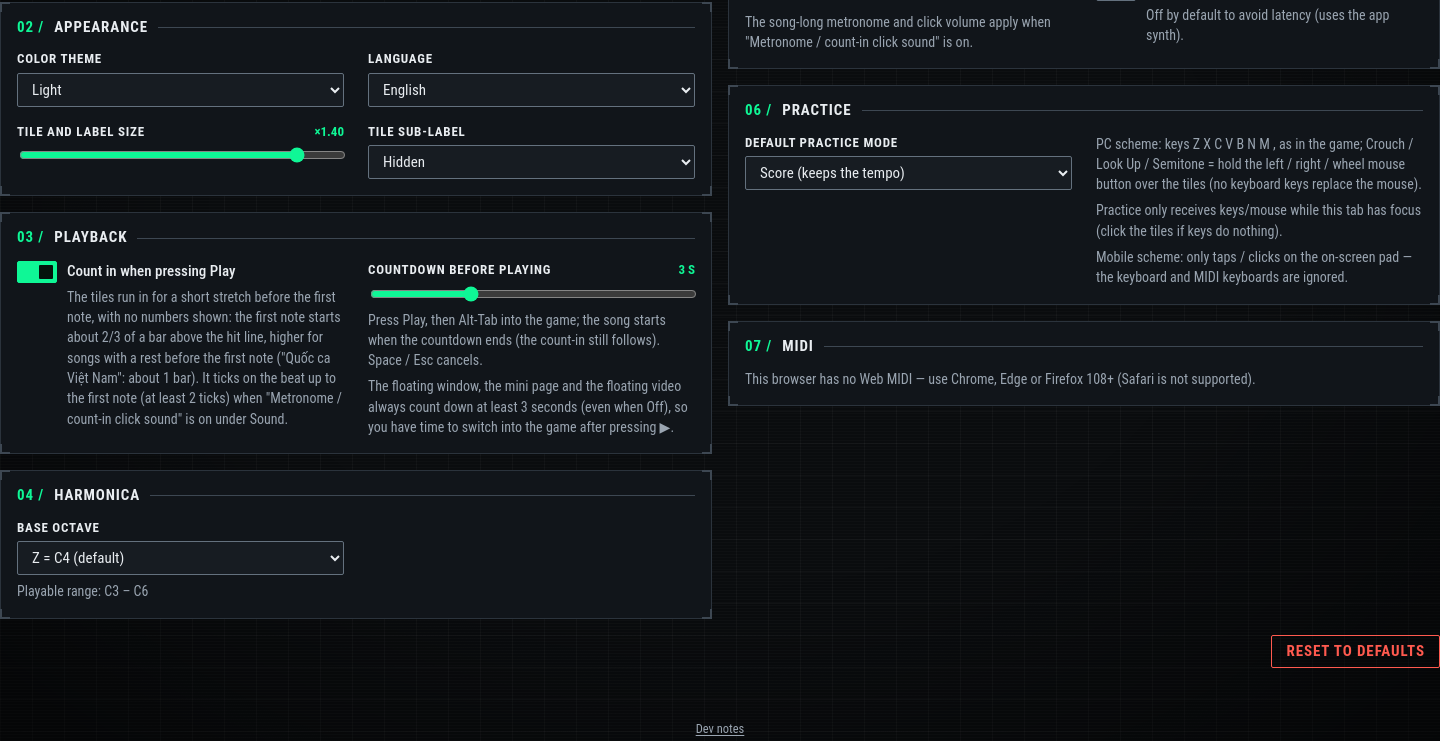
SettingsView › reset asks for confirmation, cancel keeps settings, confirm restores defaults
The image size is (1440, 741).
(page scrolled)
Click the button "Reset to defaults" at (1356, 651), box [1271,635,1439,668]
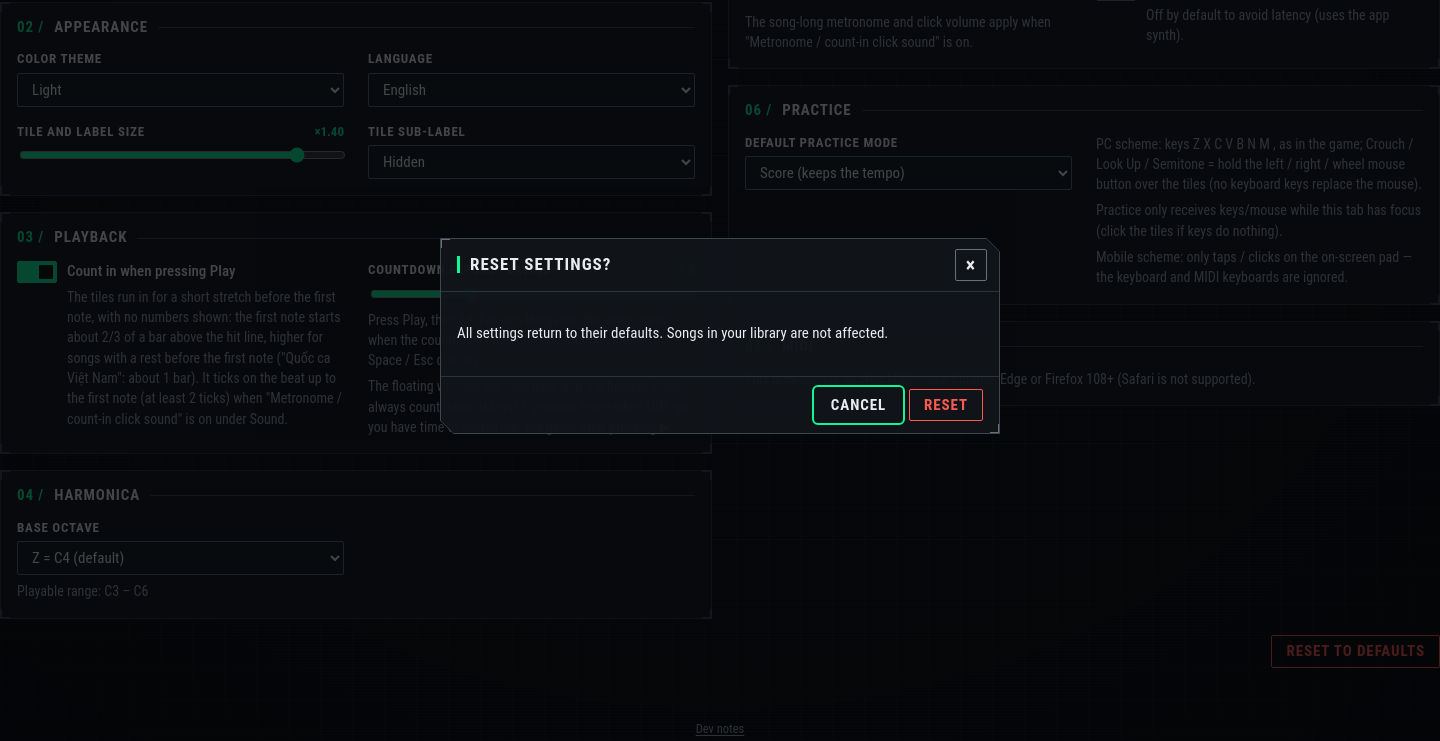
Click the button "Cancel" at (858, 405), box [816,388,901,421]
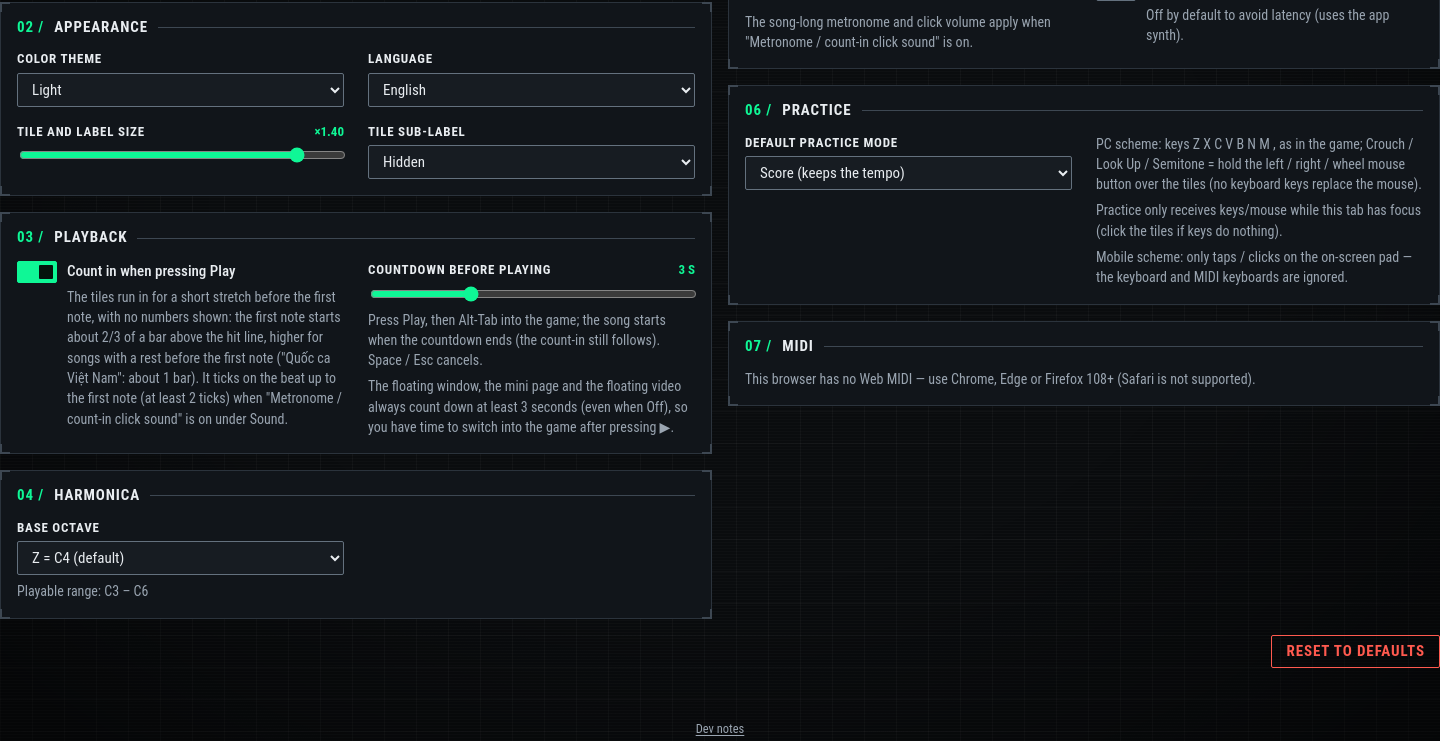
Expected: the dialog is gone
Esc cũng đóng
Click the button "Reset to defaults" at (1356, 651), box [1271,635,1439,668]
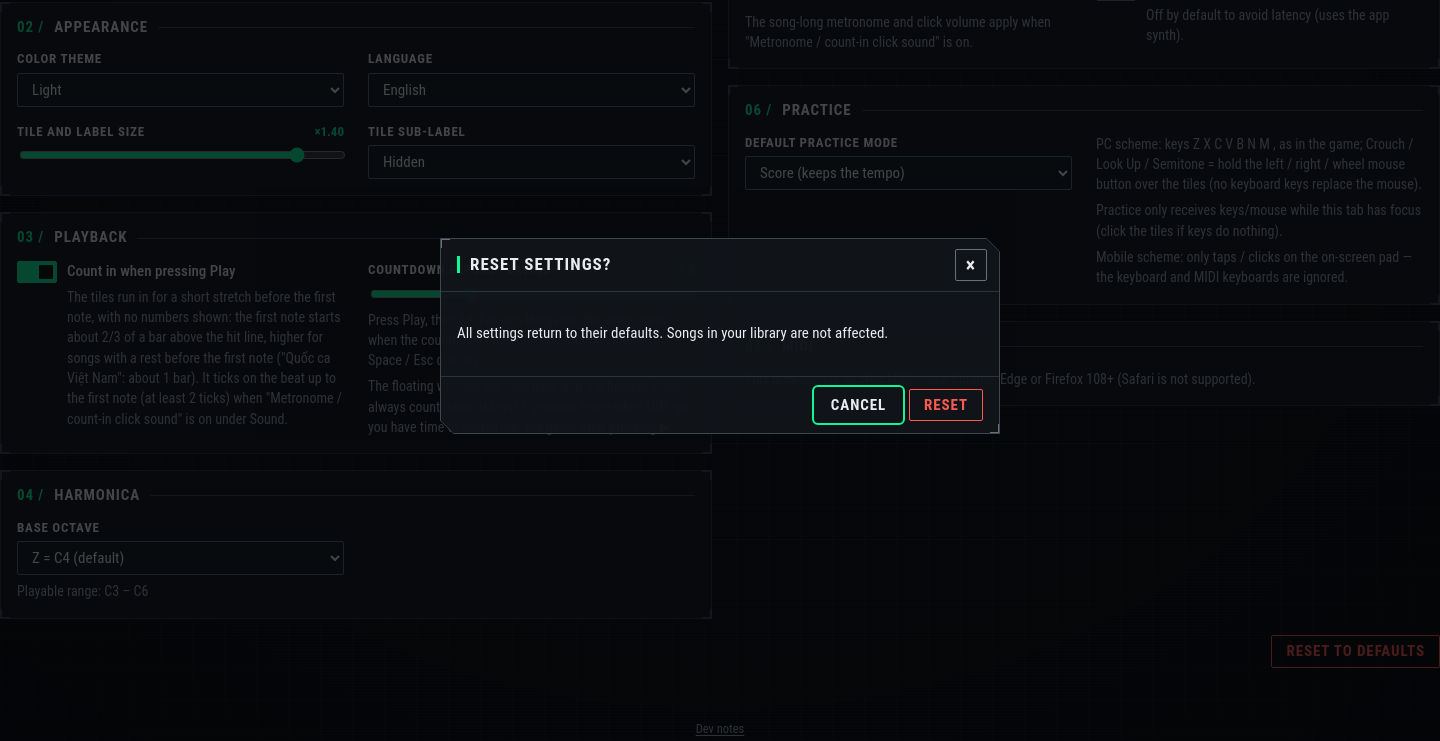
Press Escape
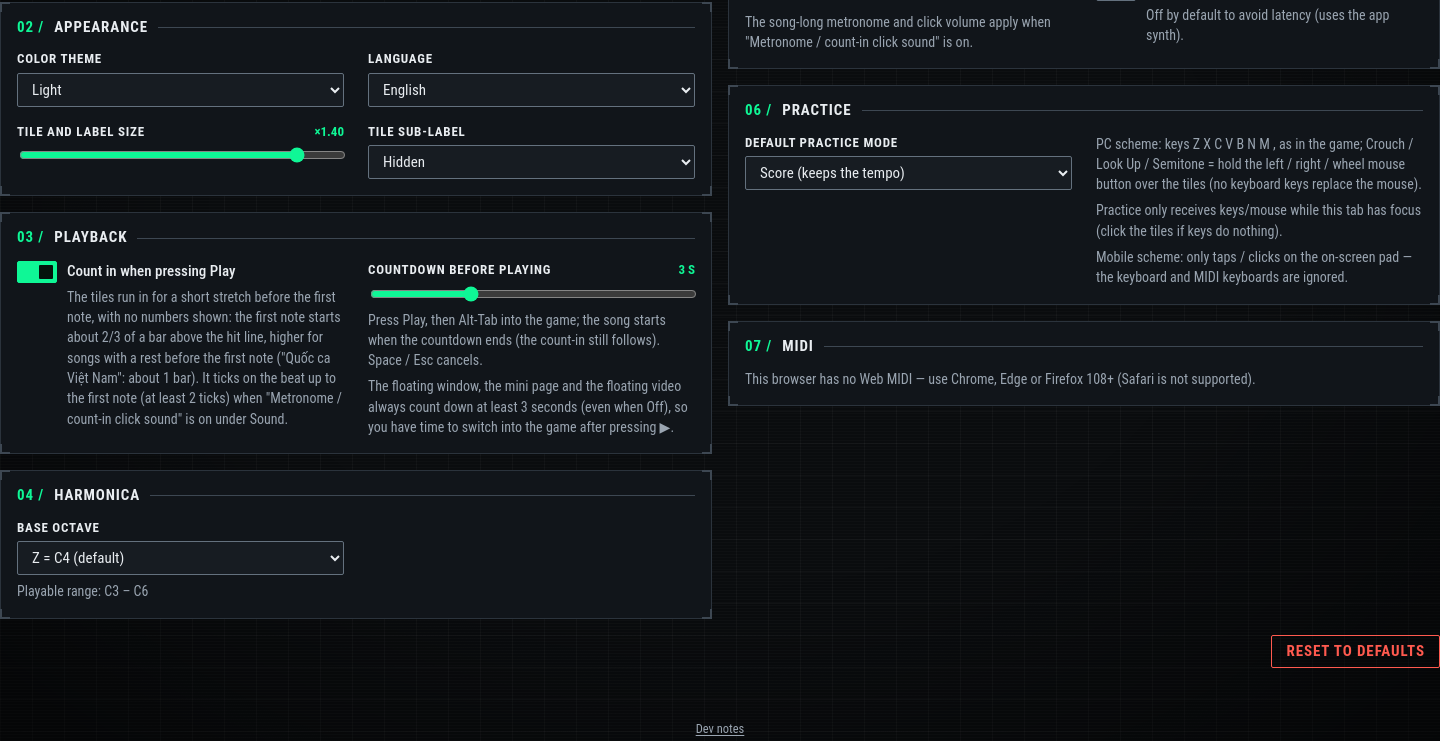
Expected: the dialog is gone
Click the button "Reset to defaults" at (1356, 651), box [1271,635,1439,668]
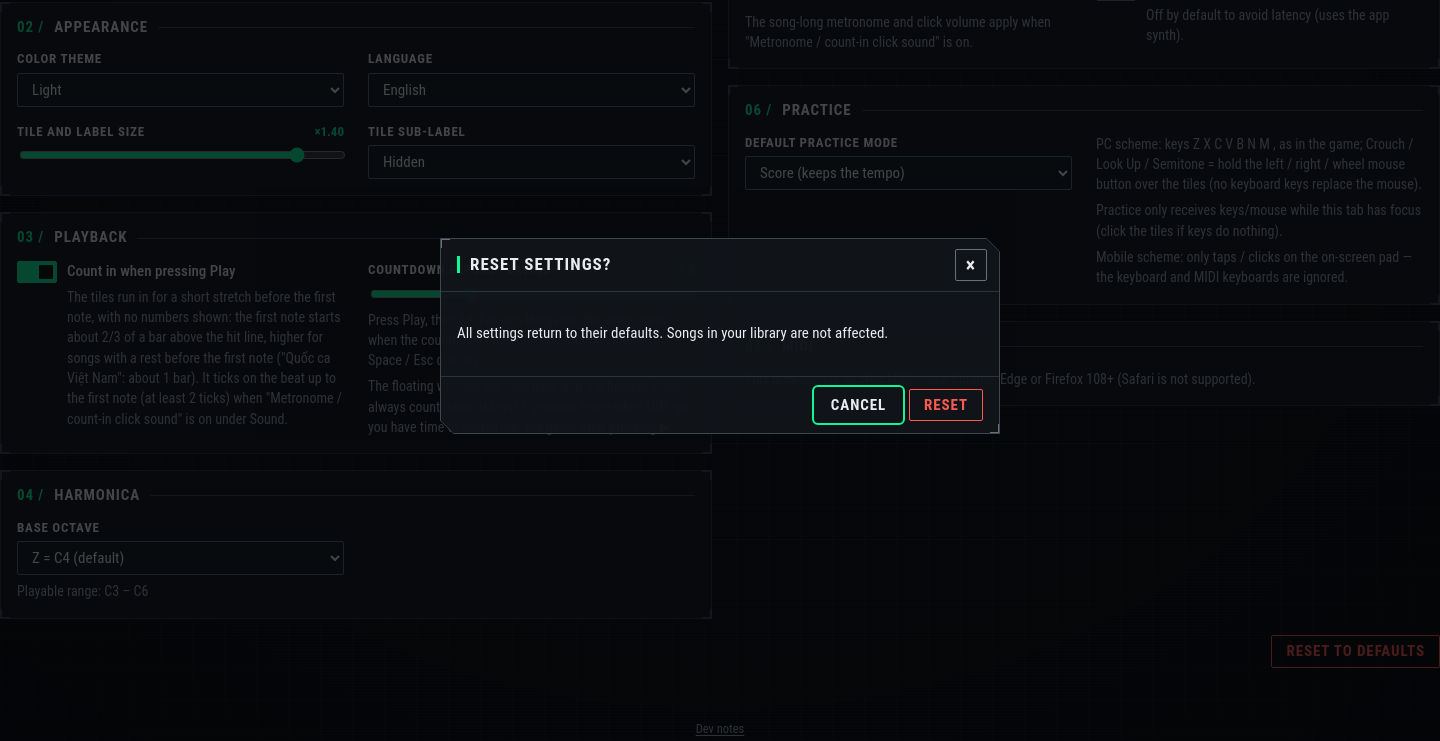
Click the button "Reset" at (946, 405), box [909,388,983,421]
(page scrolled)
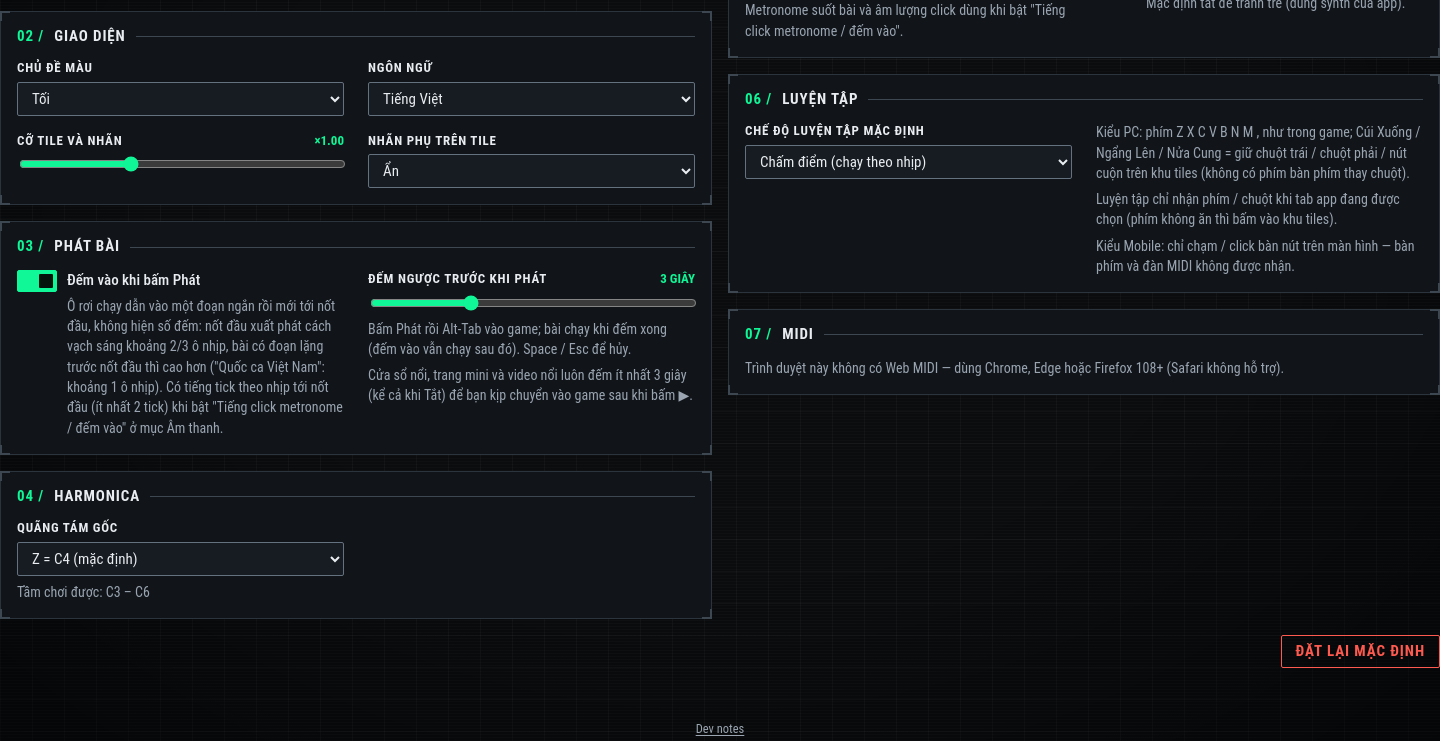
Expected: the dialog is gone
Expected: the heading "Giao diện" is shown, [54,26,126,44]
Expected: the text "×1.00" is shown, [314,132,344,150]
